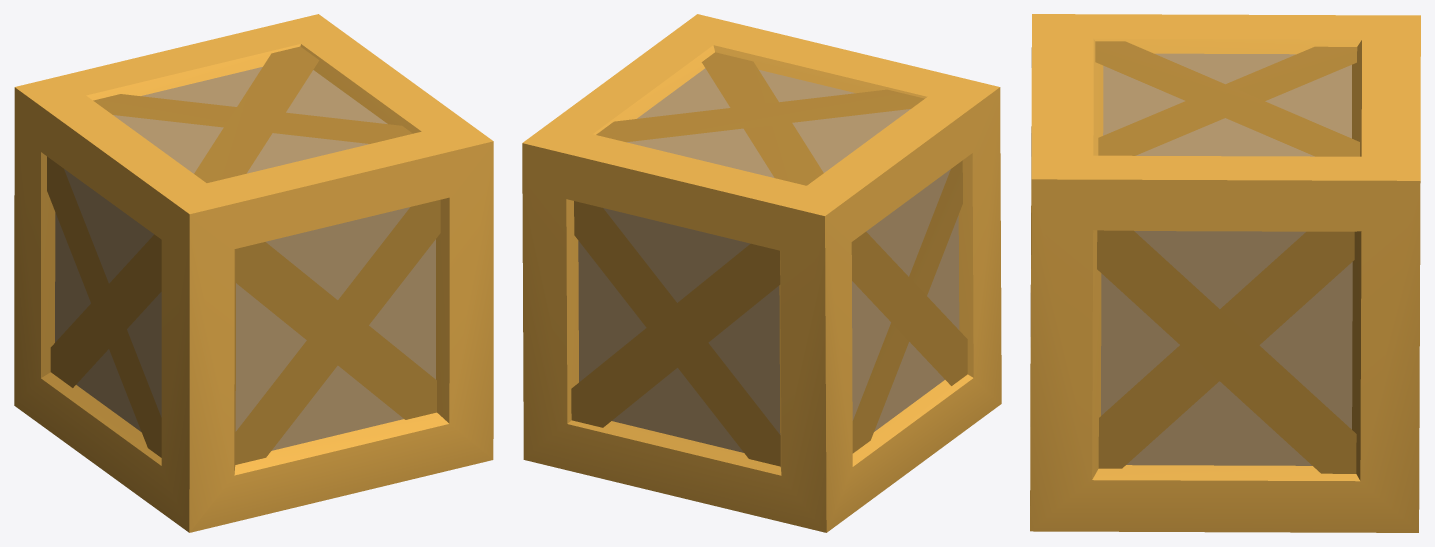
File: prop_029.glb
The picture shows the model from 3 angles, left to right: view 1: azimuth 30°, elevation 25°; view 2: azimuth 150°, elevation 25°; view 3: azimuth 270°, elevation 25°; orthographic projection. The views are drawn at different scales.
Parts seen in each view (by area): view 1: prop.001; view 2: prop.001; view 3: prop.001.
Part boxes in pixels (left/top/right/bottom): prop.001: left=14, top=14, right=493, bottom=532; prop.001: left=522, top=14, right=1001, bottom=532; prop.001: left=1030, top=14, right=1420, bottom=532.
Bounding box in the file's own units: 0.6568 × 0.6586 × 0.6573.
1 material, 1 textured.
